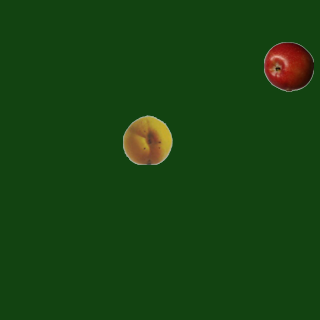Apple Braeburn: (263, 41, 313, 91)
Peach 2: (122, 114, 172, 164)
